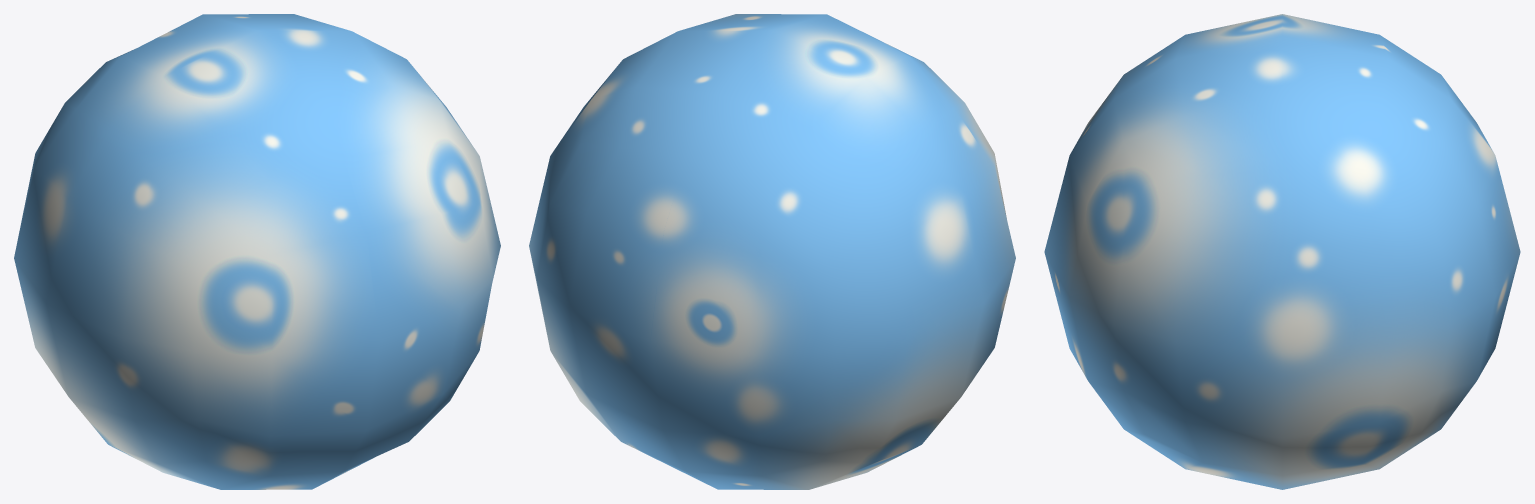
The model's file is CatToy2_MOD.fbx.
The picture shows the model from 3 angles, left to right: view 1: azimuth 30°, elevation 25°; view 2: azimuth 150°, elevation 25°; view 3: azimuth 270°, elevation 25°; orthographic projection. The views are drawn at different scales.
Parts seen in each view (by area): view 1: Cube; view 2: Cube; view 3: Cube.
Boxes of the visible parts, bbox=[...] form: Cube: bbox=[14, 14, 500, 489]; Cube: bbox=[529, 14, 1015, 489]; Cube: bbox=[1044, 14, 1520, 489].
Size of the model in its own units: 68 by 68 by 68.
